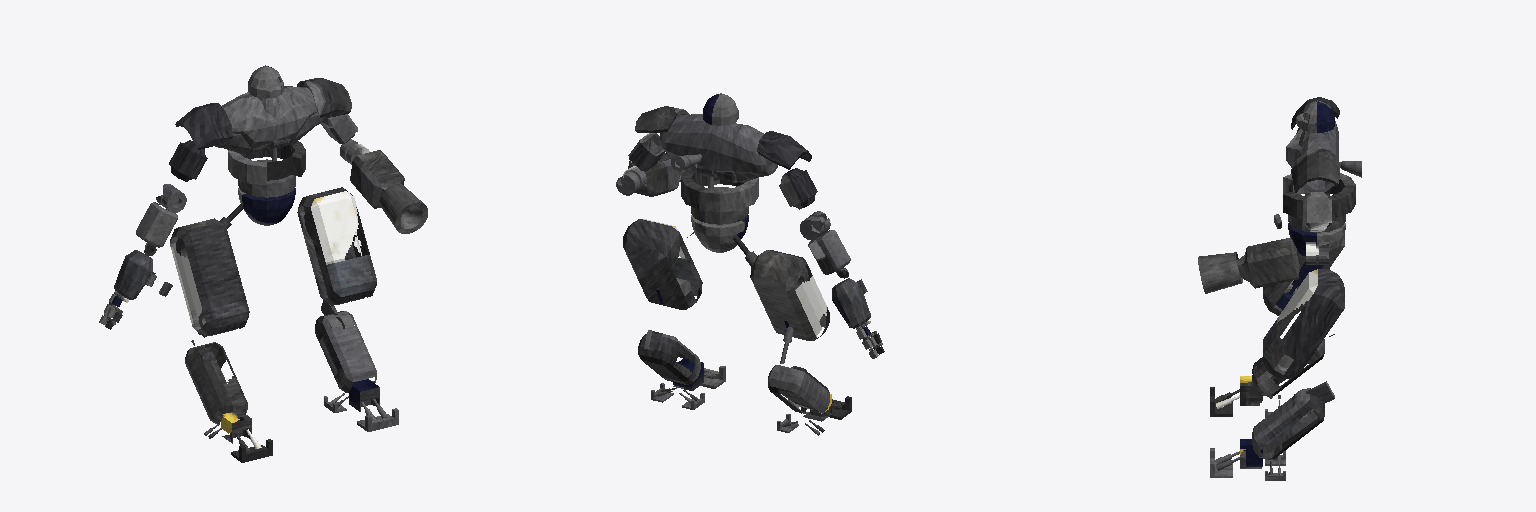
The picture shows the model from 3 angles: view 1: azimuth 30°, elevation 25°; view 2: azimuth 150°, elevation 25°; view 3: azimuth 270°, elevation 25°; orthographic projection.
Parts seen in each view (by area): view 1: Cylinder; view 2: Cylinder; view 3: Cylinder.
Boxes of the visible parts, <box> form: Cylinder: <box>99,65,427,462</box>; Cylinder: <box>616,93,884,435</box>; Cylinder: <box>1198,97,1361,480</box>.
Bounding box in the file's own units: 15.28 × 18.55 × 8.14.
1 materials, 1 textured.